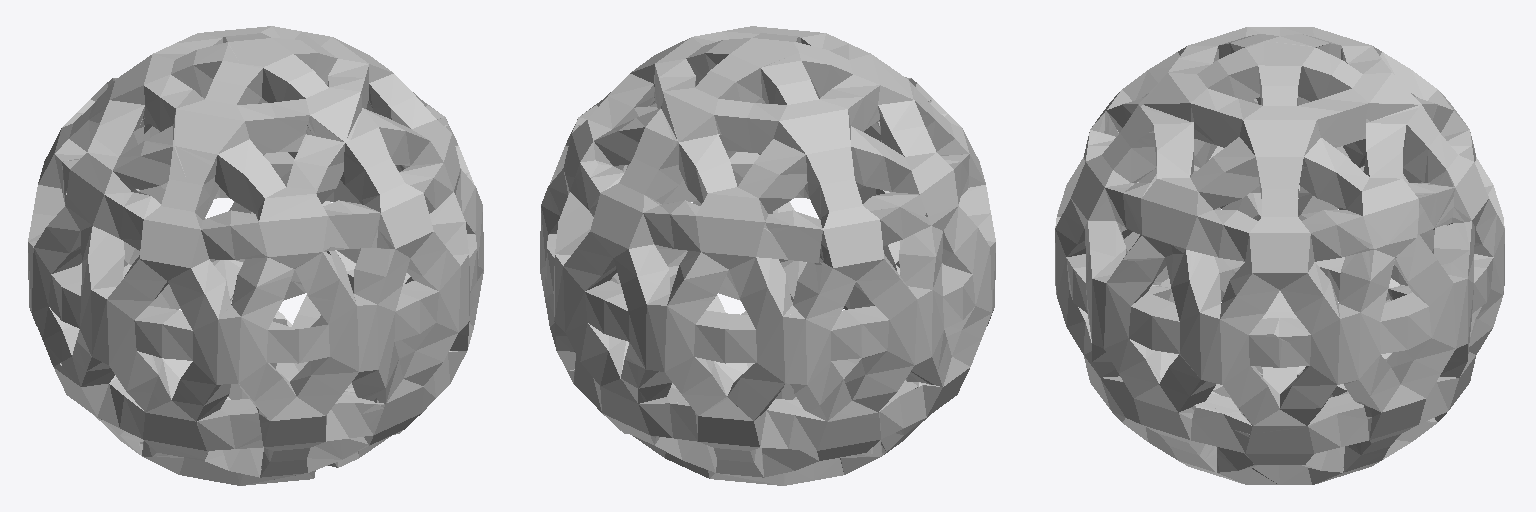
Rendered from powerup.obj.
The picture shows the model from 3 angles: view 1: azimuth 30°, elevation 25°; view 2: azimuth 150°, elevation 25°; view 3: azimuth 270°, elevation 25°; orthographic projection.
Visible parts, largest first — view 1: Icosphere; view 2: Icosphere; view 3: Icosphere.
Part boxes in pixels (x1,y1,x2,y2): Icosphere: (28,26,483,485); Icosphere: (540,26,995,485); Icosphere: (1055,27,1504,484).
Bounding box in the file's own units: 1 × 1 × 1.